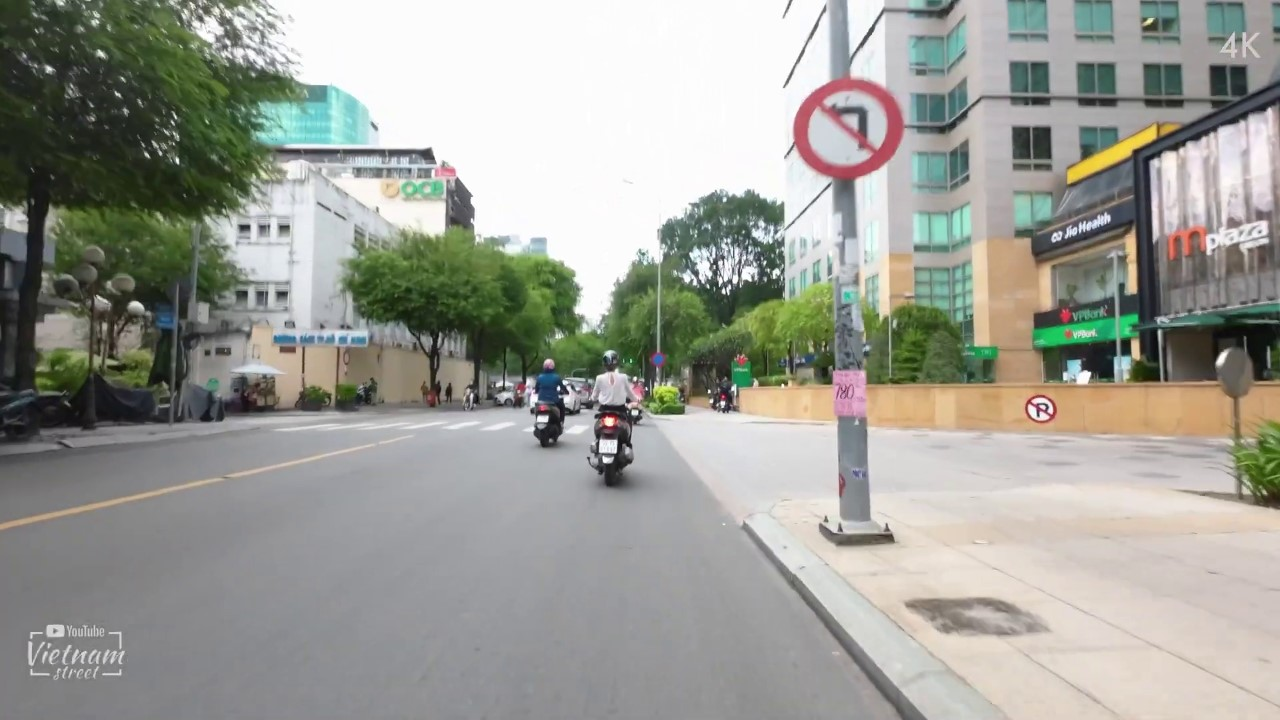cam_re_trai: (792, 76, 908, 181)
